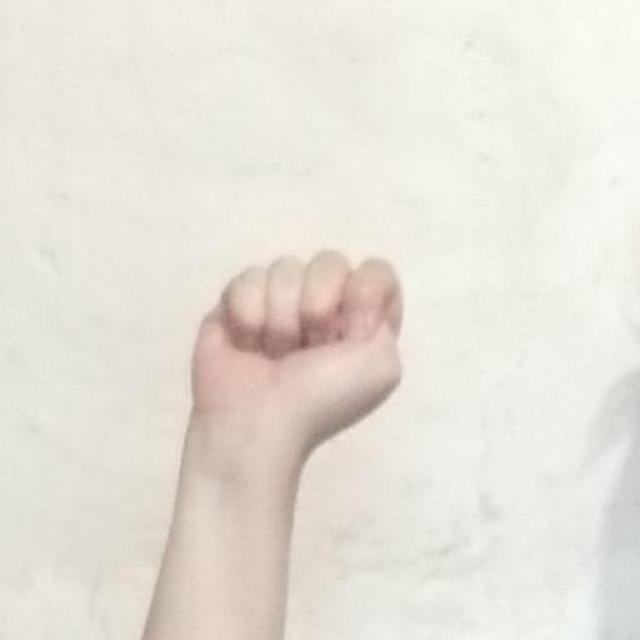hand: (188, 246, 404, 462)
